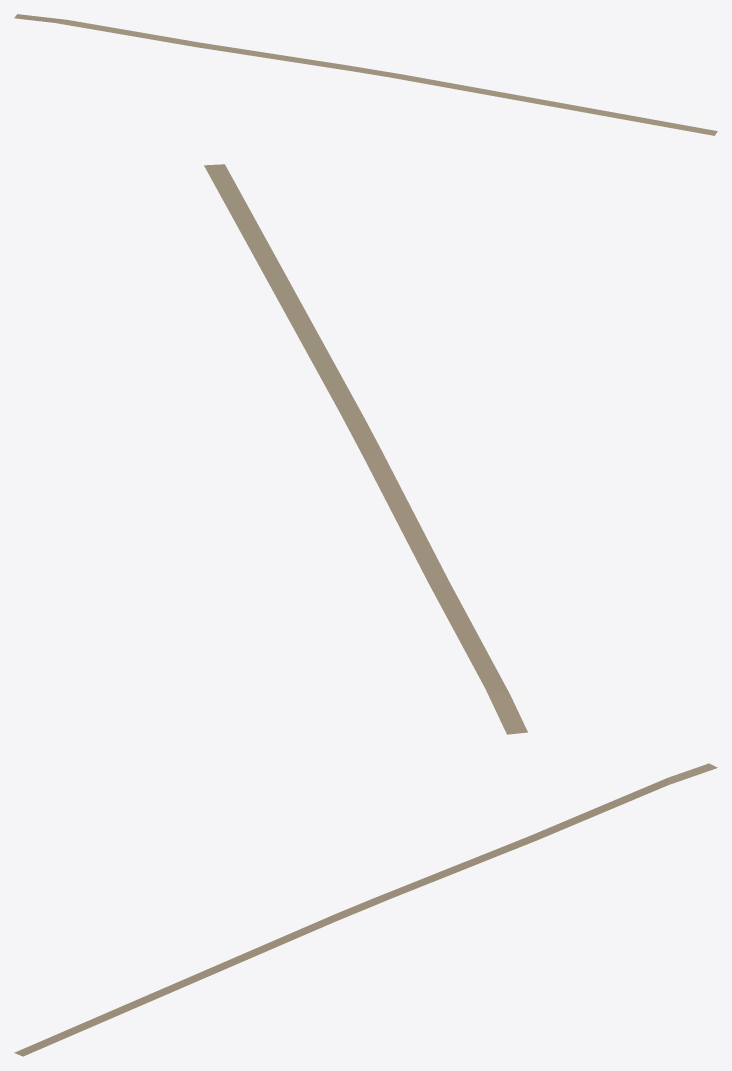
Rendered from farm_28_14_track.glb.
The picture shows the model from 3 angles, top to bottom: view 1: azimuth 30°, elevation 25°; view 2: azimuth 150°, elevation 25°; view 3: azimuth 270°, elevation 25°; orthographic projection. The views are drawn at different scales.
Parts seen in each view (by area): view 1: geometry_0; view 2: geometry_0; view 3: geometry_0.
Boxes of the visible parts, <box> form: geometry_0: <box>14,14,717,135</box>; geometry_0: <box>204,164,527,734</box>; geometry_0: <box>14,763,717,1056</box>.
Size of the model in its own units: 152 by 7.3 by 169.
